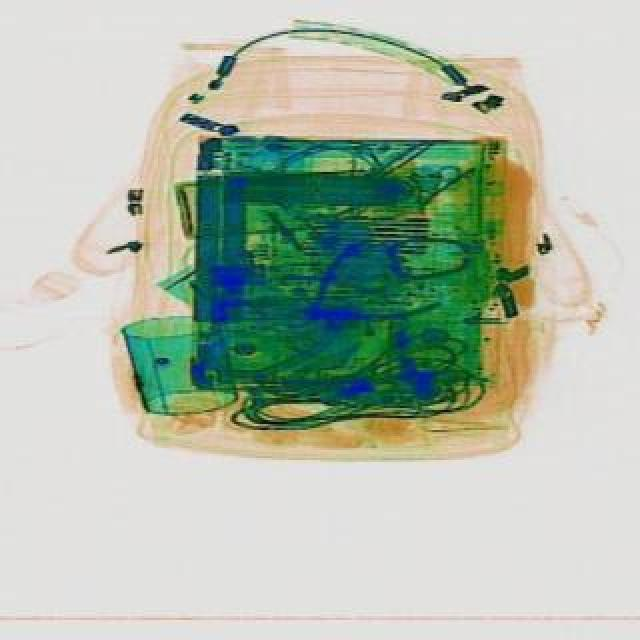wrench: (260, 224, 440, 368)
